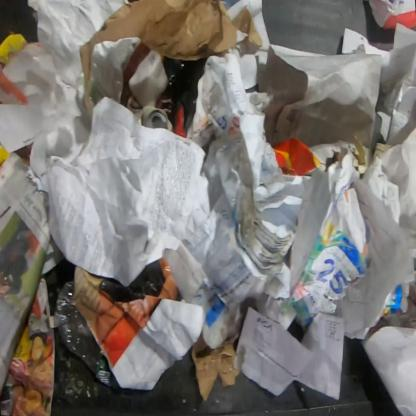cardboard: (0, 33, 32, 174), (191, 329, 240, 400)
metal: (136, 105, 172, 132)
rigid_plastic: (55, 281, 119, 388), (368, 0, 415, 31)
